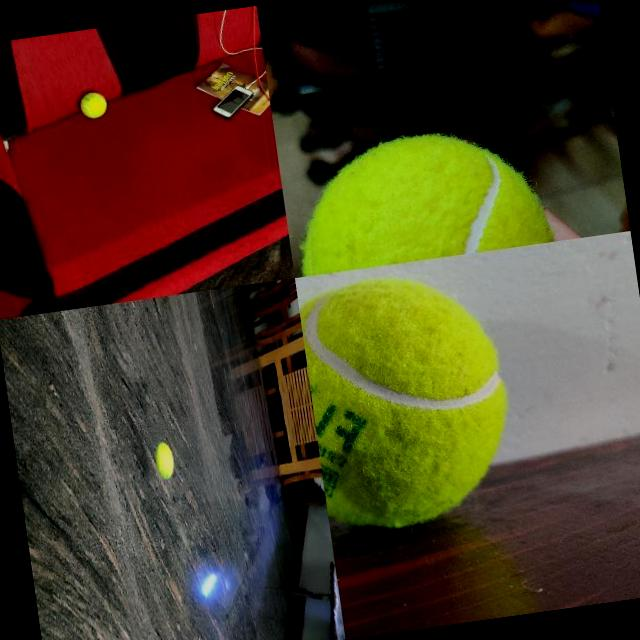Tennis Ball: (298, 262, 524, 540), (288, 119, 554, 276), (154, 441, 176, 481), (80, 90, 108, 119)
